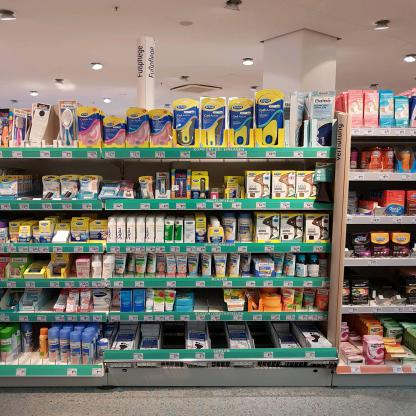Void: (47, 159, 102, 174), (160, 324, 185, 351), (380, 268, 404, 295), (196, 286, 219, 309), (250, 325, 274, 346), (209, 322, 226, 350), (26, 160, 39, 194), (3, 212, 43, 222), (111, 162, 131, 181), (359, 182, 379, 200), (139, 161, 163, 173), (4, 159, 23, 174), (225, 157, 241, 173), (30, 324, 37, 357), (44, 290, 54, 312), (213, 162, 221, 186), (349, 269, 370, 278)
